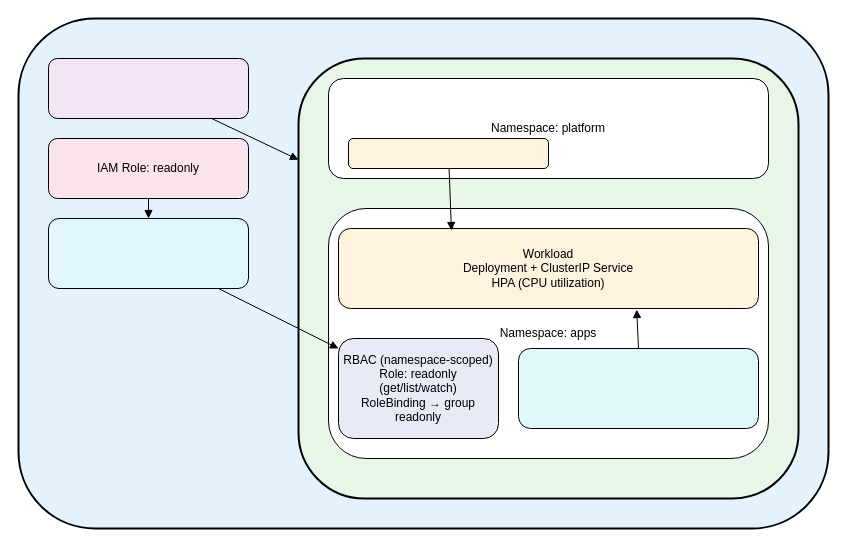
Image size: 846x546. Some labels were removed from this diagram. The centre of each missing label's shape, as x and y in pixels:
"EKS Access Entry → Kubernetes group: readonly" goes at pixel 148 253.
"Governance • PSA baseline (enforce/audit/warn) • ResourceQuota + LimitRange" goes at pixel 638 388.
"metrics-server (enables Metrics API for HPA)" goes at pixel 448 153.
"Terraform (infra/)" goes at pixel 148 88.
